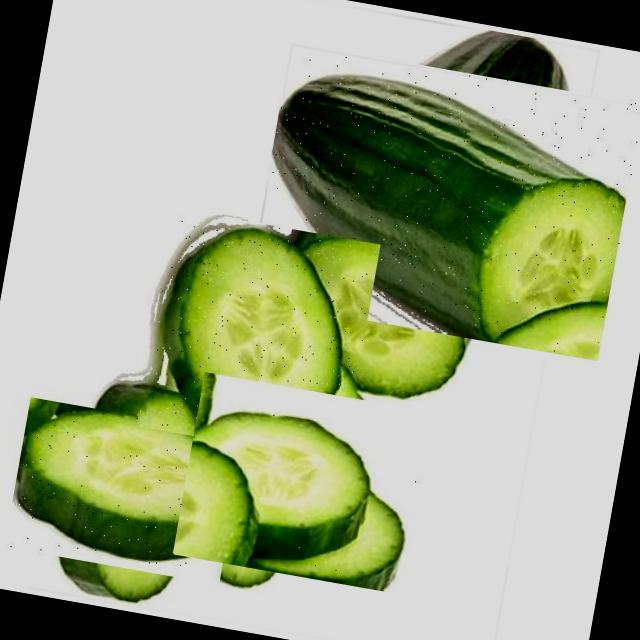Cucumber: (240, 55, 640, 360)
